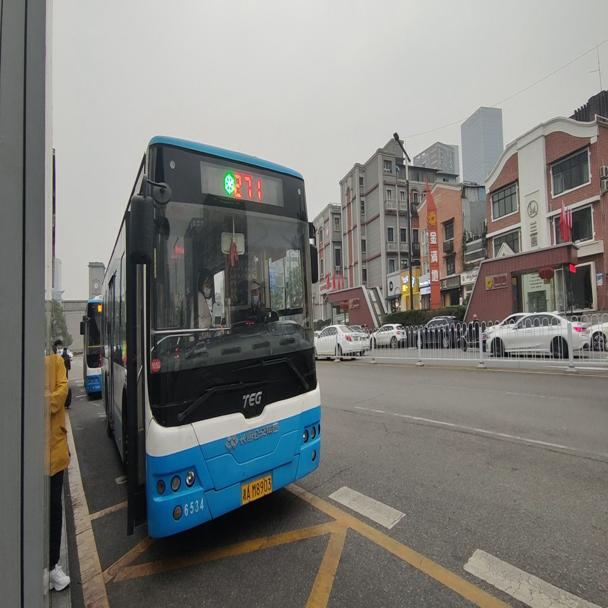bus: (99, 131, 324, 542), (78, 293, 101, 398)
screen: (232, 166, 268, 202)
